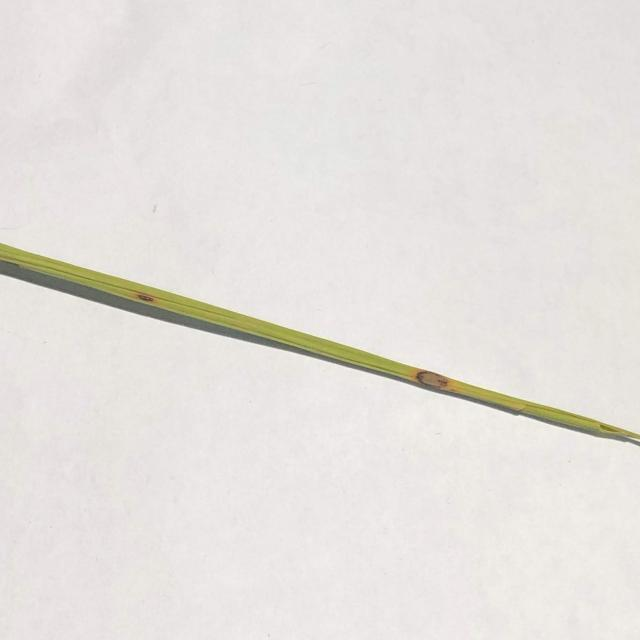Blast: (412, 371, 450, 391), (134, 292, 156, 302)
